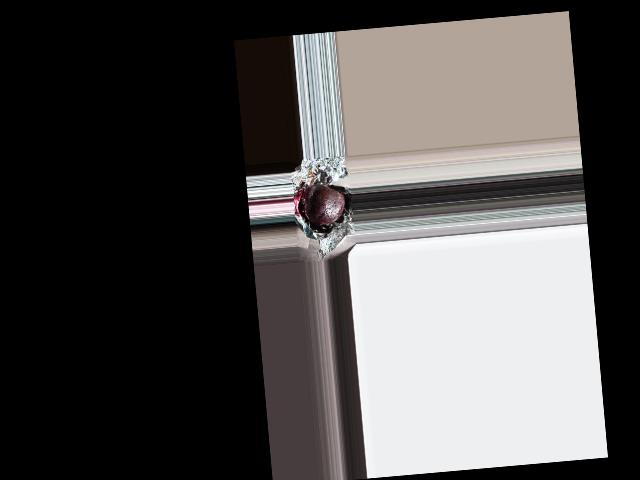beet: (303, 181, 346, 226)
